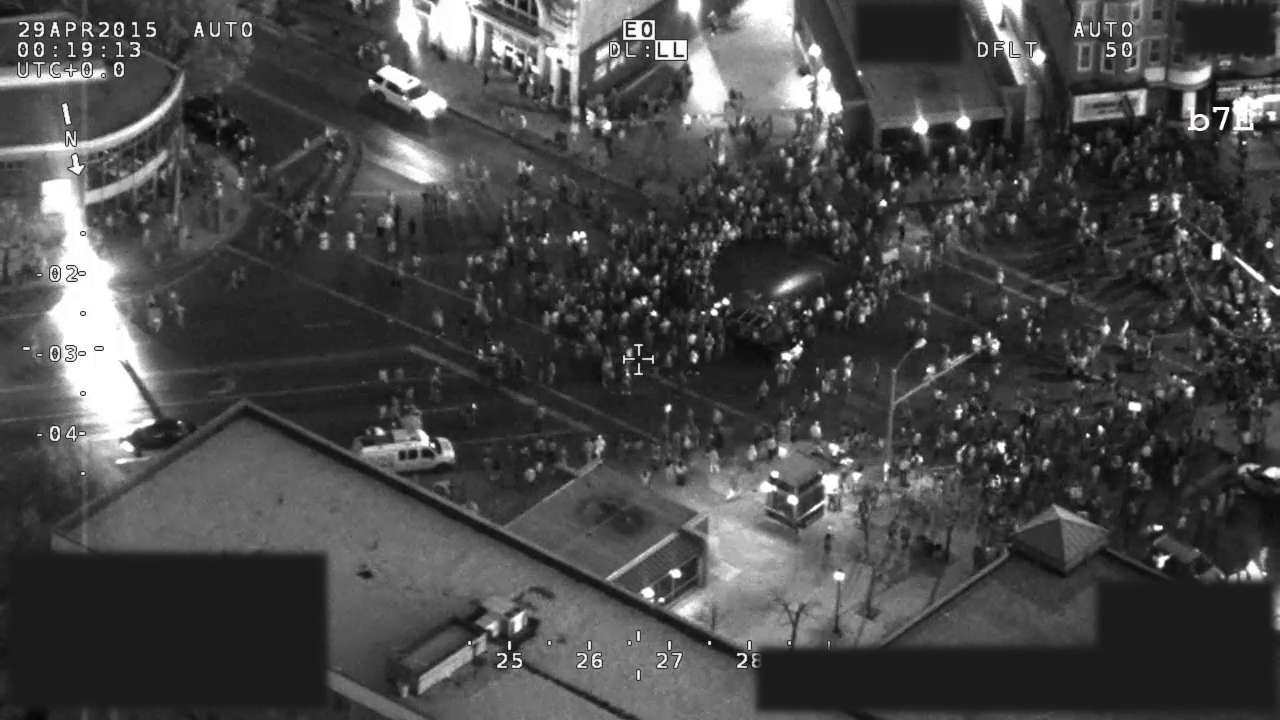vehicle: (358, 61, 452, 131), (346, 425, 464, 479), (1141, 528, 1228, 592), (719, 303, 807, 366), (178, 92, 255, 153), (114, 418, 202, 462)
